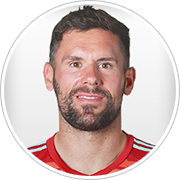face: (41, 39, 137, 123)
